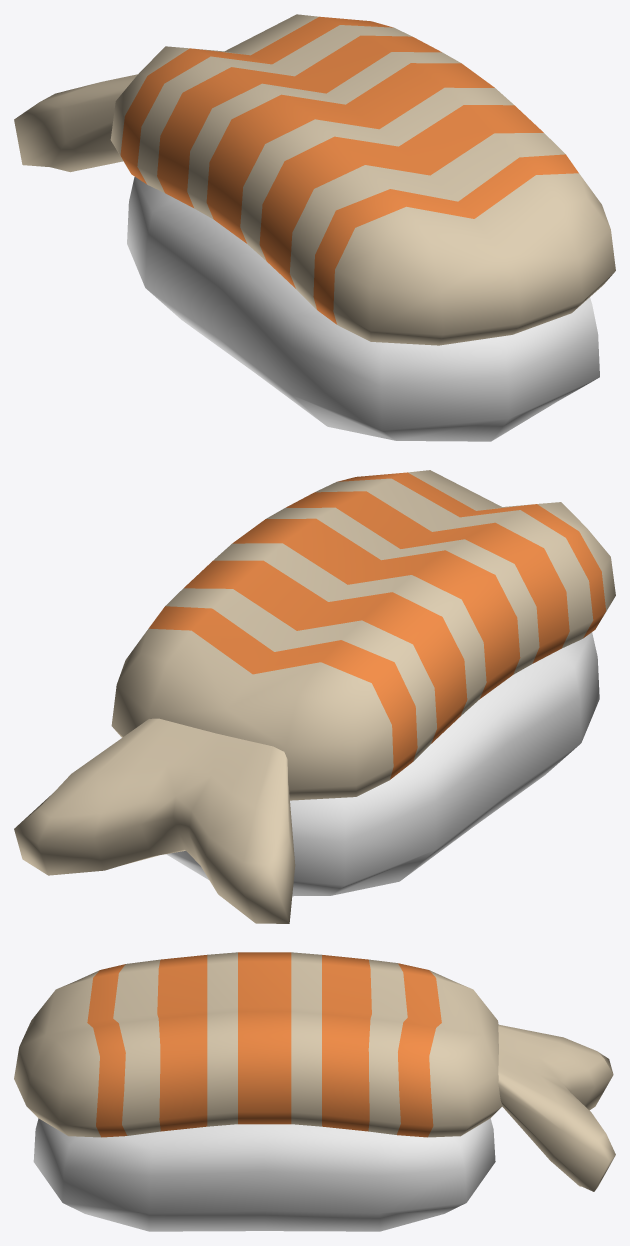
The model's file is Ebi Nigiri.glb.
3 views of the same model, one above another, from view 1: azimuth 30°, elevation 25°; view 2: azimuth 150°, elevation 25°; view 3: azimuth 270°, elevation 25° (orthographic). The views are drawn at different scales.
Visible parts, largest first — view 1: Food_EbiNigiri; view 2: Food_EbiNigiri; view 3: Food_EbiNigiri.
Part boxes in pixels (x1,y1,x2,y2): Food_EbiNigiri: (14, 14, 615, 441); Food_EbiNigiri: (14, 470, 615, 923); Food_EbiNigiri: (14, 952, 615, 1231).
Bounding box in the file's own units: 0.3456 × 0.3059 × 0.782.
Materials: 1 (1 with a texture image).
